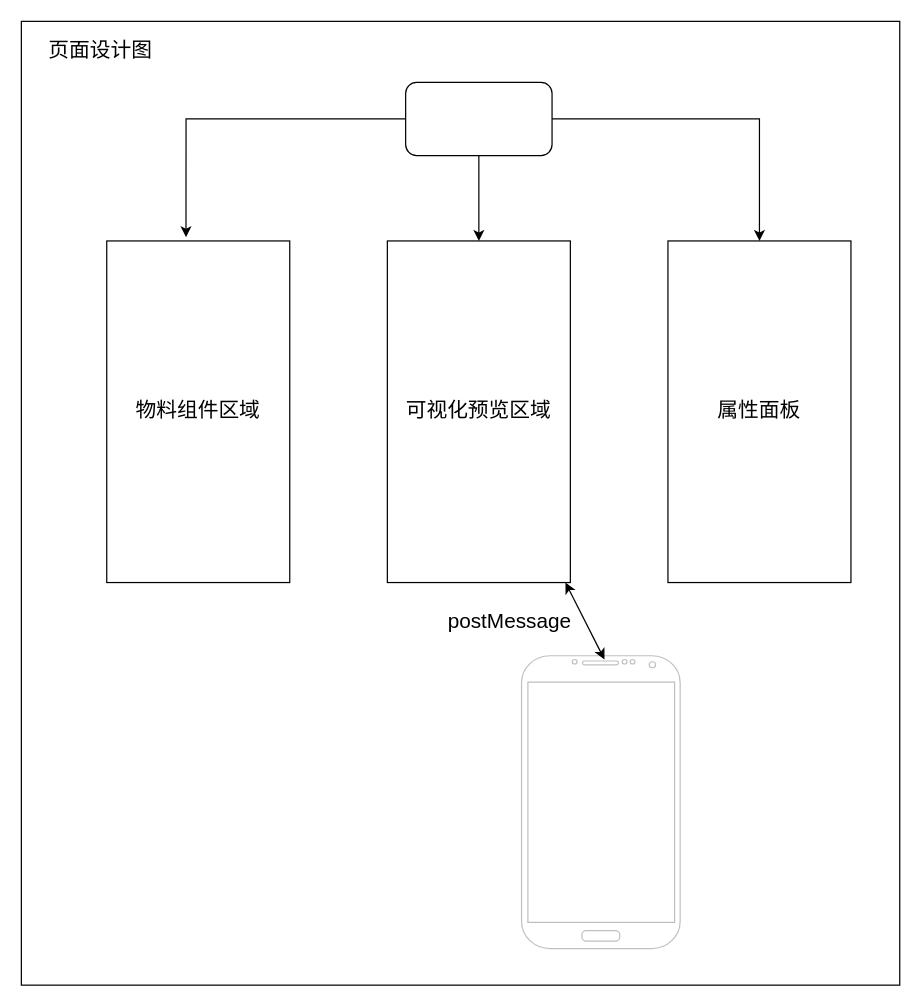
The diagram is 921 pixels wide and 1007 high, and some of its shapes have lost their labels. Here are the shapes that lost their labels. From the top down, the centre of each, then its label:
At point 478,118: "Store".
At point 600,802: "uniAPP".
